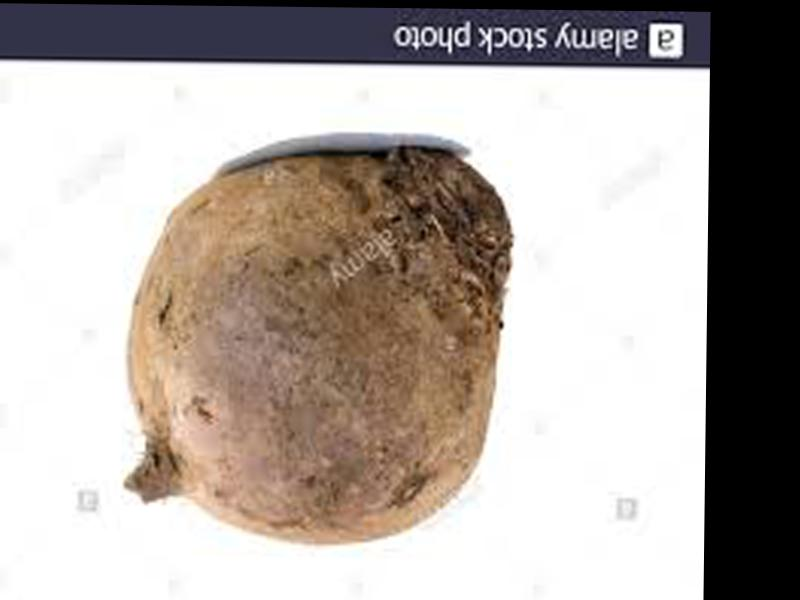Beet: (122, 144, 510, 546)
